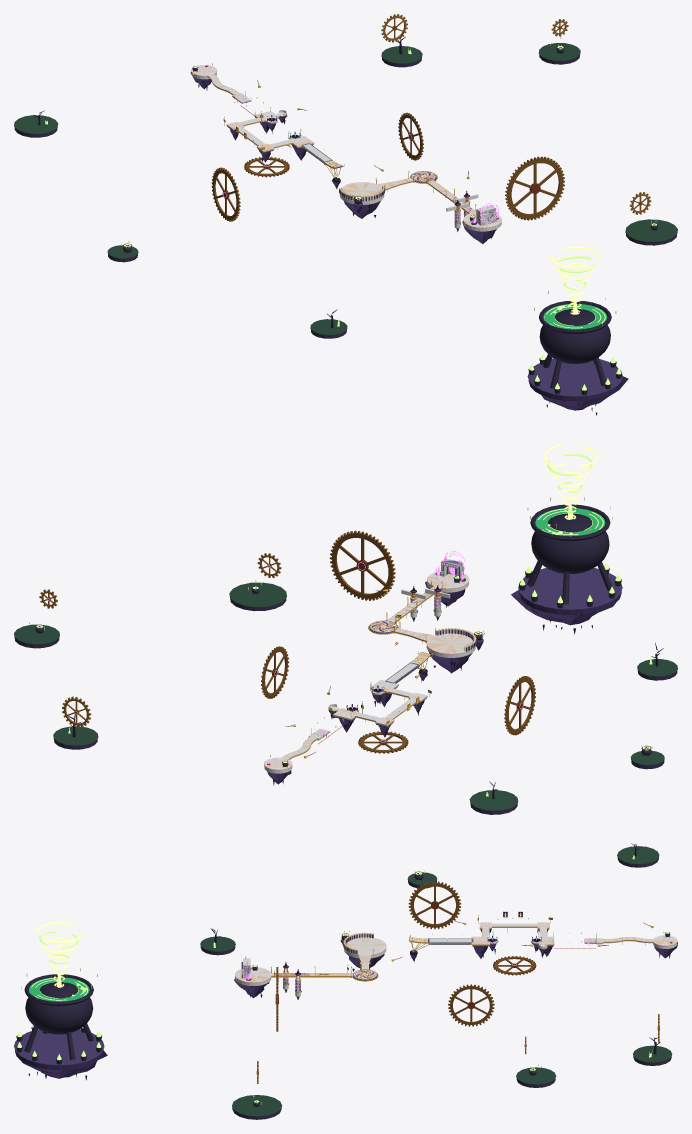
3 views of the same model, one above another, from view 1: azimuth 30°, elevation 25°; view 2: azimuth 150°, elevation 25°; view 3: azimuth 270°, elevation 25° (orthographic). The views are drawn at different scales.
Visible parts, largest first — view 1: V_iron, V_grass_dark, V_stone_dark, C_0, V_rock, V_brass.011, V_walk, V_dirt, V_brass, V_brass.013, V_brew; view 2: V_iron, V_grass_dark, V_stone_dark, C_0, V_rock, V_brass.011, V_walk, V_dirt, V_brass, V_brass.013, V_brew, C_1 (+2 smaller); view 3: V_iron, V_grass_dark, V_stone_dark, C_0, V_rock, V_walk, V_brass.013, V_brass, V_brass.014, V_dirt, V_brew, C_1 (+1 smaller).
Part boxes in pixels (bbox=[...]): V_iron: bbox=[123, 45, 657, 394]; V_grass_dark: bbox=[14, 43, 677, 335]; V_stone_dark: bbox=[227, 115, 622, 396]; C_0: bbox=[191, 65, 501, 231]; V_rock: bbox=[190, 72, 628, 410]; V_brass.011: bbox=[505, 156, 564, 220]; V_walk: bbox=[191, 65, 501, 228]; V_dirt: bbox=[14, 54, 676, 338]; V_brass: bbox=[206, 65, 476, 223]; V_brass.013: bbox=[211, 167, 240, 221]; V_brew: bbox=[543, 304, 607, 329]; V_iron: bbox=[35, 504, 651, 767]; V_grass_dark: bbox=[14, 582, 677, 811]; V_stone_dark: bbox=[328, 565, 622, 727]; C_0: bbox=[264, 571, 468, 773]; V_rock: bbox=[267, 581, 621, 784]; V_brass.011: bbox=[329, 530, 395, 600]; V_walk: bbox=[264, 573, 474, 770]; V_dirt: bbox=[14, 598, 677, 814]; V_brass: bbox=[283, 580, 476, 759]; V_brass.013: bbox=[504, 676, 535, 735]; V_brew: bbox=[535, 508, 605, 536]; C_1: bbox=[328, 633, 475, 710]; V_iron: bbox=[16, 871, 670, 1106]; V_grass_dark: bbox=[200, 846, 672, 1116]; V_stone_dark: bbox=[14, 929, 553, 1065]; C_0: bbox=[235, 922, 677, 996]; V_rock: bbox=[15, 929, 677, 1078]; V_walk: bbox=[235, 923, 677, 982]; V_brass.013: bbox=[408, 881, 461, 929]; V_brass: bbox=[271, 911, 671, 992]; V_brass.014: bbox=[448, 984, 494, 1026]; V_dirt: bbox=[200, 857, 671, 1119]; V_brew: bbox=[29, 977, 89, 1001]; C_1: bbox=[344, 937, 547, 958].
Bounding box in the file's own units: 192 × 54.12 × 219.
